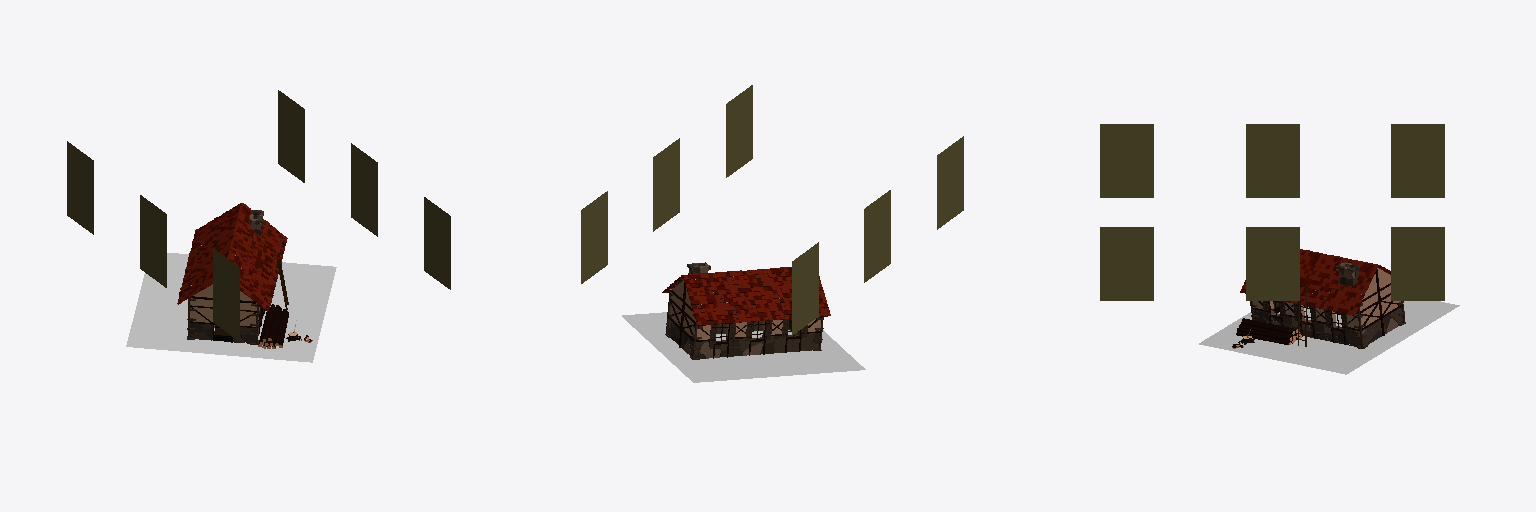
File: house.obj
The picture shows the model from 3 angles: view 1: azimuth 30°, elevation 25°; view 2: azimuth 150°, elevation 25°; view 3: azimuth 270°, elevation 25°; orthographic projection.
Visible parts, largest first — view 1: Glass_Plane.001, Plane_Plane.002, Cube_Cube.001, Cylinder, House.002_Cube.009, House.003_cell.030_House.003_cell.025; view 2: Glass_Plane.001, Plane_Plane.002, Cube_Cube.001, House.003_cell.030_House.003_cell.025, House.002_Cube.009, Cube.003_Cube.011, Cube.026_Cube.044; view 3: Glass_Plane.001, Plane_Plane.002, Cube_Cube.001, House.003_cell.030_House.003_cell.025, Cylinder, House.002_Cube.009, Cube.003_Cube.011, Cube.026_Cube.044.
Boxes of the visible parts, x1,y1,x2,y2 form: Glass_Plane.001: [67, 90, 450, 341]; Plane_Plane.002: [126, 253, 336, 362]; Cube_Cube.001: [177, 203, 287, 311]; Cylinder: [258, 304, 288, 348]; House.002_Cube.009: [190, 298, 259, 326]; House.003_cell.030_House.003_cell.025: [190, 311, 263, 343]; Glass_Plane.001: [581, 85, 963, 335]; Plane_Plane.002: [622, 312, 865, 382]; Cube_Cube.001: [662, 267, 830, 325]; House.003_cell.030_House.003_cell.025: [668, 319, 819, 358]; House.002_Cube.009: [670, 295, 820, 339]; Cube.003_Cube.011: [668, 282, 821, 358]; Cube.026_Cube.044: [709, 319, 807, 343]; Glass_Plane.001: [1100, 124, 1444, 300]; Plane_Plane.002: [1199, 301, 1459, 374]; Cube_Cube.001: [1240, 249, 1390, 315]; House.003_cell.030_House.003_cell.025: [1253, 302, 1402, 346]; Cylinder: [1236, 318, 1301, 344]; House.002_Cube.009: [1252, 285, 1400, 328]; Cube.003_Cube.011: [1252, 269, 1402, 344]; Cube.026_Cube.044: [1263, 301, 1347, 331].
Size of the model in its own units: 1.72 by 1.16 by 2.36.